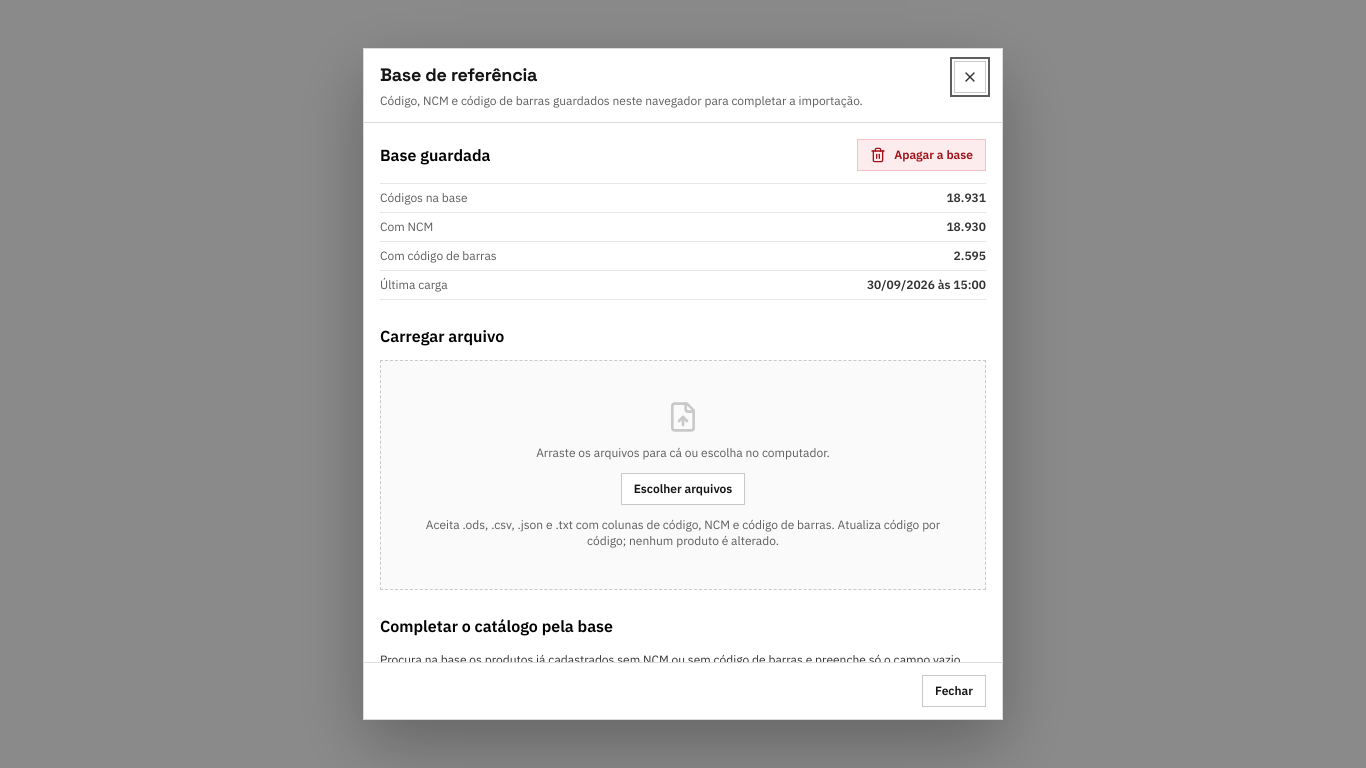
Test case: apagar a base › mantem a confirmacao aberta com o motivo quando apagar falha
Click the button "Apagar a base".
click(922, 154)  # box [857, 138, 986, 170]
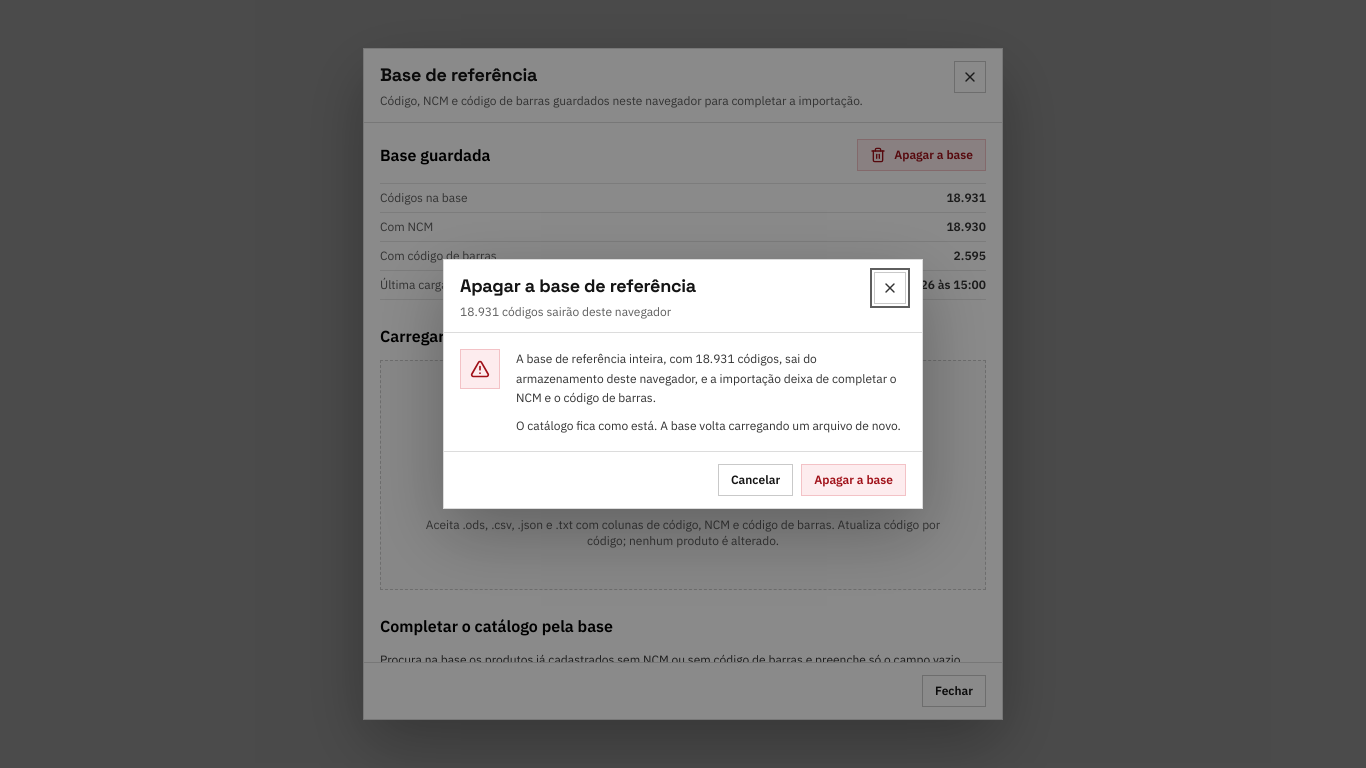
Result: the button "Apagar a base" below "A base de referência inteira, com" is shown
Click the button "Apagar a base" below "A base de referência inteira, com".
click(854, 480)  # box [801, 464, 906, 496]
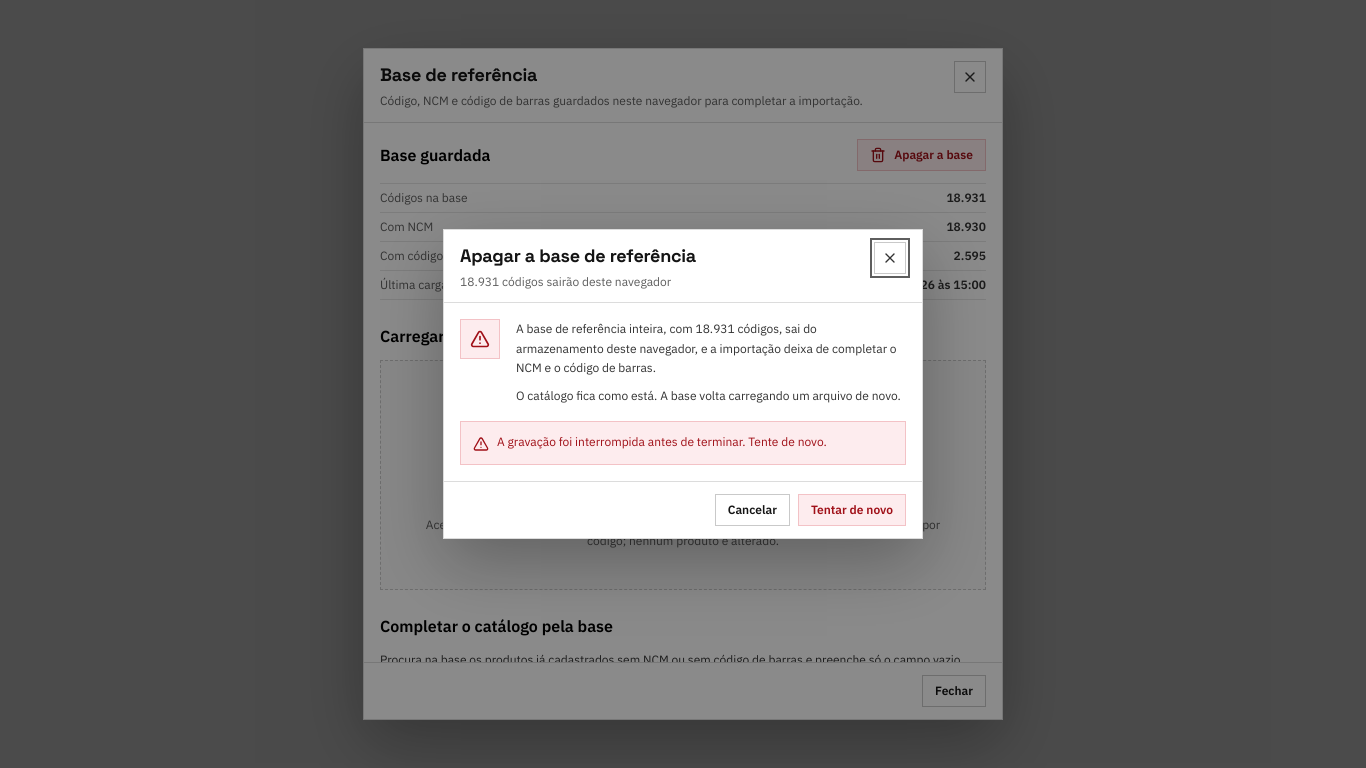
Result: the button "Tentar de novo" is shown at [798, 494, 906, 526]
Result: the message "A gravação foi interrompida antes de terminar. Tente de novo." is shown at [460, 421, 906, 465]
